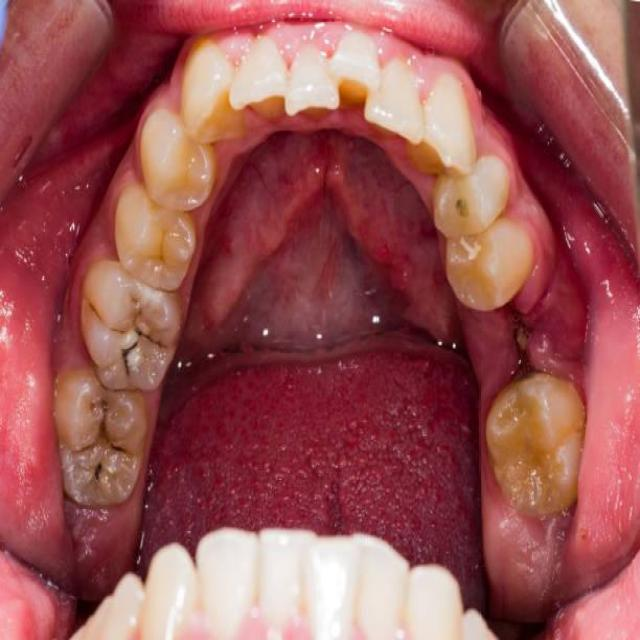caries: (88, 288, 175, 386), (66, 392, 135, 490)
